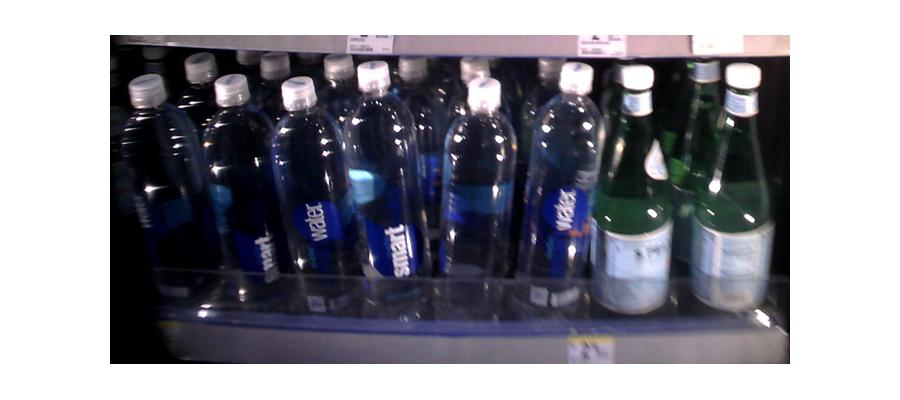bottle: (343, 57, 427, 326), (521, 67, 602, 322), (120, 85, 204, 329), (434, 73, 517, 319), (695, 71, 771, 330), (596, 68, 671, 327), (272, 77, 348, 313), (203, 74, 274, 318)
